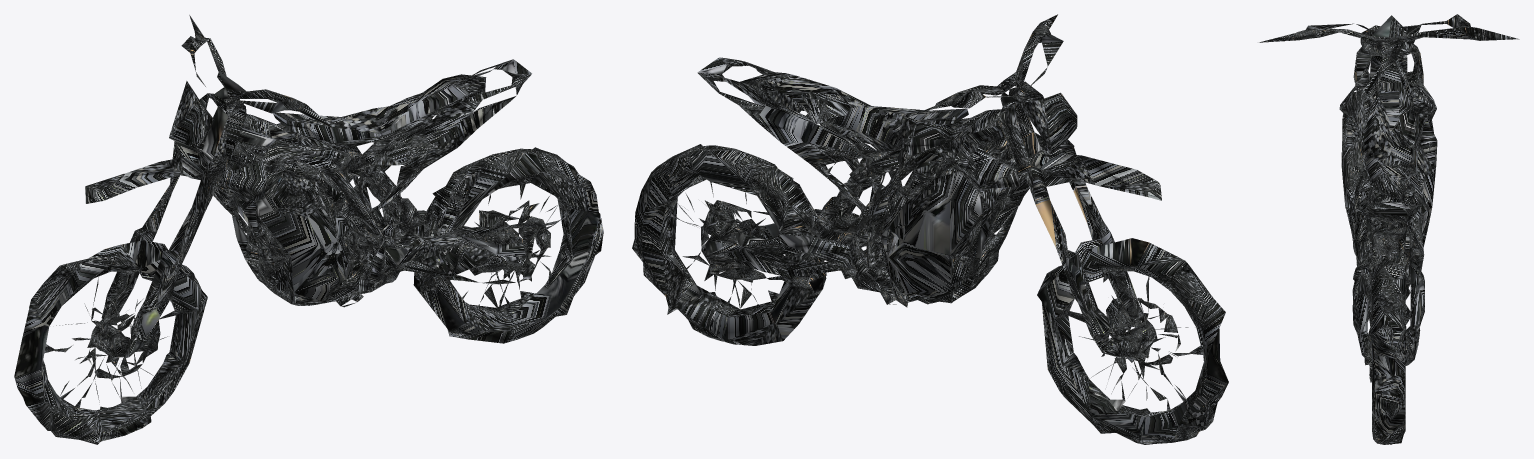
The model's file is motor-ev-far.glb.
The picture shows the model from 3 angles, left to right: view 1: azimuth 30°, elevation 25°; view 2: azimuth 150°, elevation 25°; view 3: azimuth 270°, elevation 25°; orthographic projection. The views are drawn at different scales.
Parts seen in each view (by area): view 1: geometry_0; view 2: geometry_0; view 3: geometry_0.
Boxes of the visible parts, x1,y1,x2,y2 form: geometry_0: (14, 15, 603, 444); geometry_0: (632, 14, 1228, 444); geometry_0: (1259, 14, 1519, 444).
Size of the model in its own units: 1.87 by 1.07 by 0.8329.
1 material, 1 textured.
